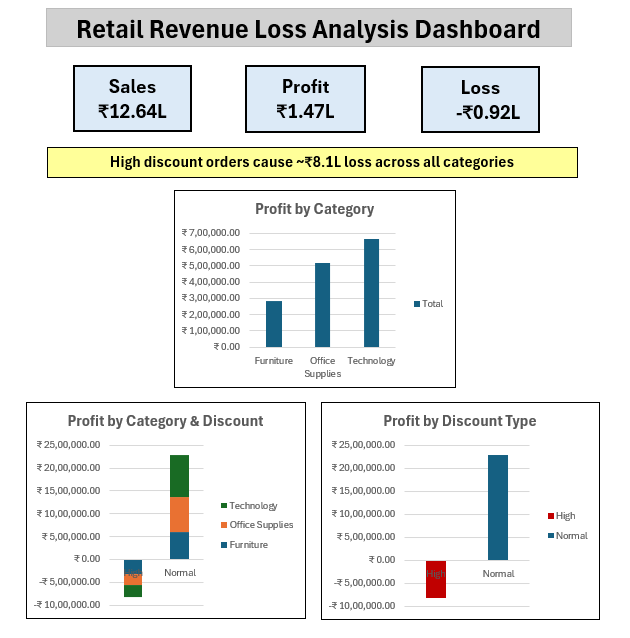

Layout of this report page (visuals, bound fields, positions):
{"tool":"powerbi","page":{"name":"Page 1","canvas":[1280,720],"ordinal":0},"visuals":[{"type":"card","fields":{"Values":["SuperStoreOrders.Total Sales"]},"box":[0,126.2,399.3,118],"z":0},{"type":"card","fields":{"Values":["SuperStoreOrders.Total Profit"]},"box":[439.1,126.2,399.3,118],"z":1000},{"type":"card","fields":{"Values":["SuperStoreOrders.Total Loss"]},"box":[881,126.2,399.3,118],"z":2000},{"type":"clusteredColumnChart","title":"Profit by Discount Type","fields":{"Category":["SuperStoreOrders.Discount Type"],"Y":["SuperStoreOrders.Total Profit"]},"box":[0,359.5,399.3,360.9],"z":3000},{"type":"clusteredColumnChart","title":"Profit by Category","fields":{"Category":["SuperStoreOrders.category"],"Y":["SuperStoreOrders.Total Profit"]},"box":[439.1,359.5,399.3,360.9],"z":4000},{"type":"columnChart","title":"Profit by Category & Discount","fields":{"Category":["SuperStoreOrders.Discount Type"],"Y":["SuperStoreOrders.Total Profit"],"Series":["SuperStoreOrders.category"]},"box":[881,359.5,399.3,360.9],"z":5000},{"type":"textbox","box":[343.9,28.5,591.2,54.4],"z":6000},{"type":"textbox","box":[0,285.4,1280.3,37],"z":7000}]}

Visuals, with their boxes on the page's 1280x720 design canvas (x1, y1, x2, y2). These are canvas units, not pixel positions in the 630x638 screenshot, which may show the page scaled, cropped or inside an application window:
card - SuperStoreOrders.Total Sales: [0,126,399,244]
card - SuperStoreOrders.Total Profit: [439,126,838,244]
card - SuperStoreOrders.Total Loss: [881,126,1280,244]
"Profit by Discount Type" clusteredColumnChart: [0,360,399,720]
"Profit by Category" clusteredColumnChart: [439,360,838,720]
"Profit by Category & Discount" columnChart: [881,360,1280,720]
textbox: [344,28,935,83]
textbox: [0,285,1280,322]
